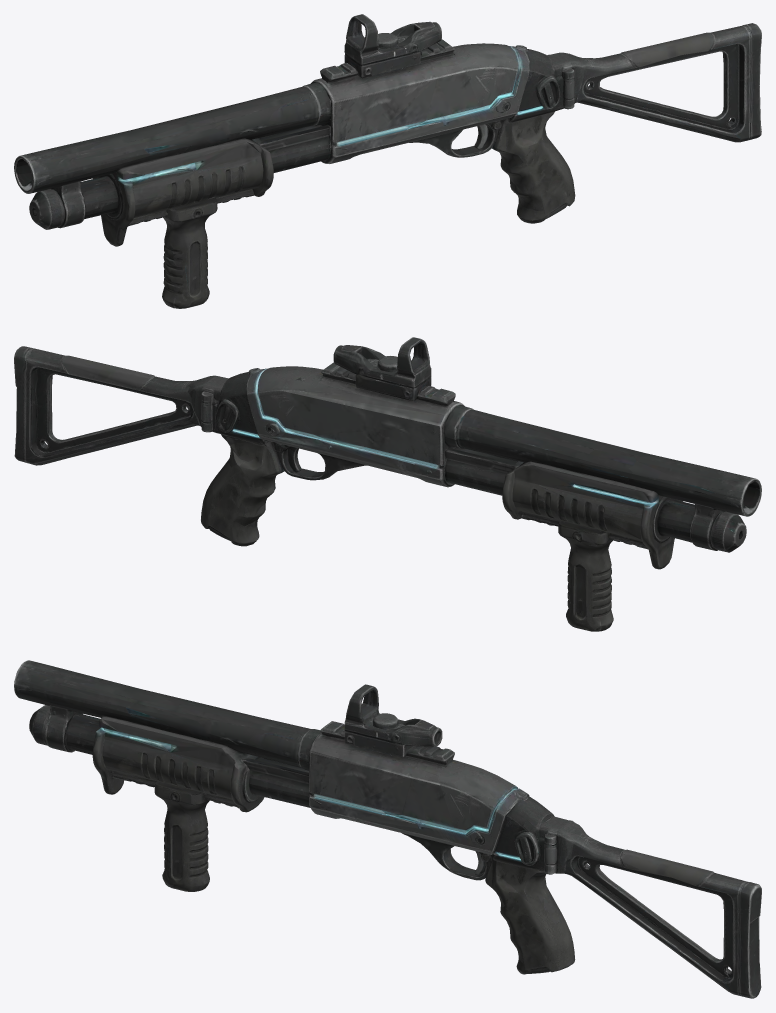
File: gun_pump-high.glb
3 views of the same model, one above another, from view 1: azimuth 30°, elevation 25°; view 2: azimuth 150°, elevation 25°; view 3: azimuth 330°, elevation 25° (orthographic).
Parts seen in each view (by area): view 1: Mesh_0; view 2: Mesh_0; view 3: Mesh_0.
Boxes of the visible parts, left/top/right/bottom form: Mesh_0: left=14, top=14, right=761, bottom=308; Mesh_0: left=14, top=337, right=761, bottom=631; Mesh_0: left=14, top=660, right=761, bottom=998.
Size of the model in its own units: 1.9 by 0.5965 by 0.1708.
Materials: 1 (1 with a texture image).
